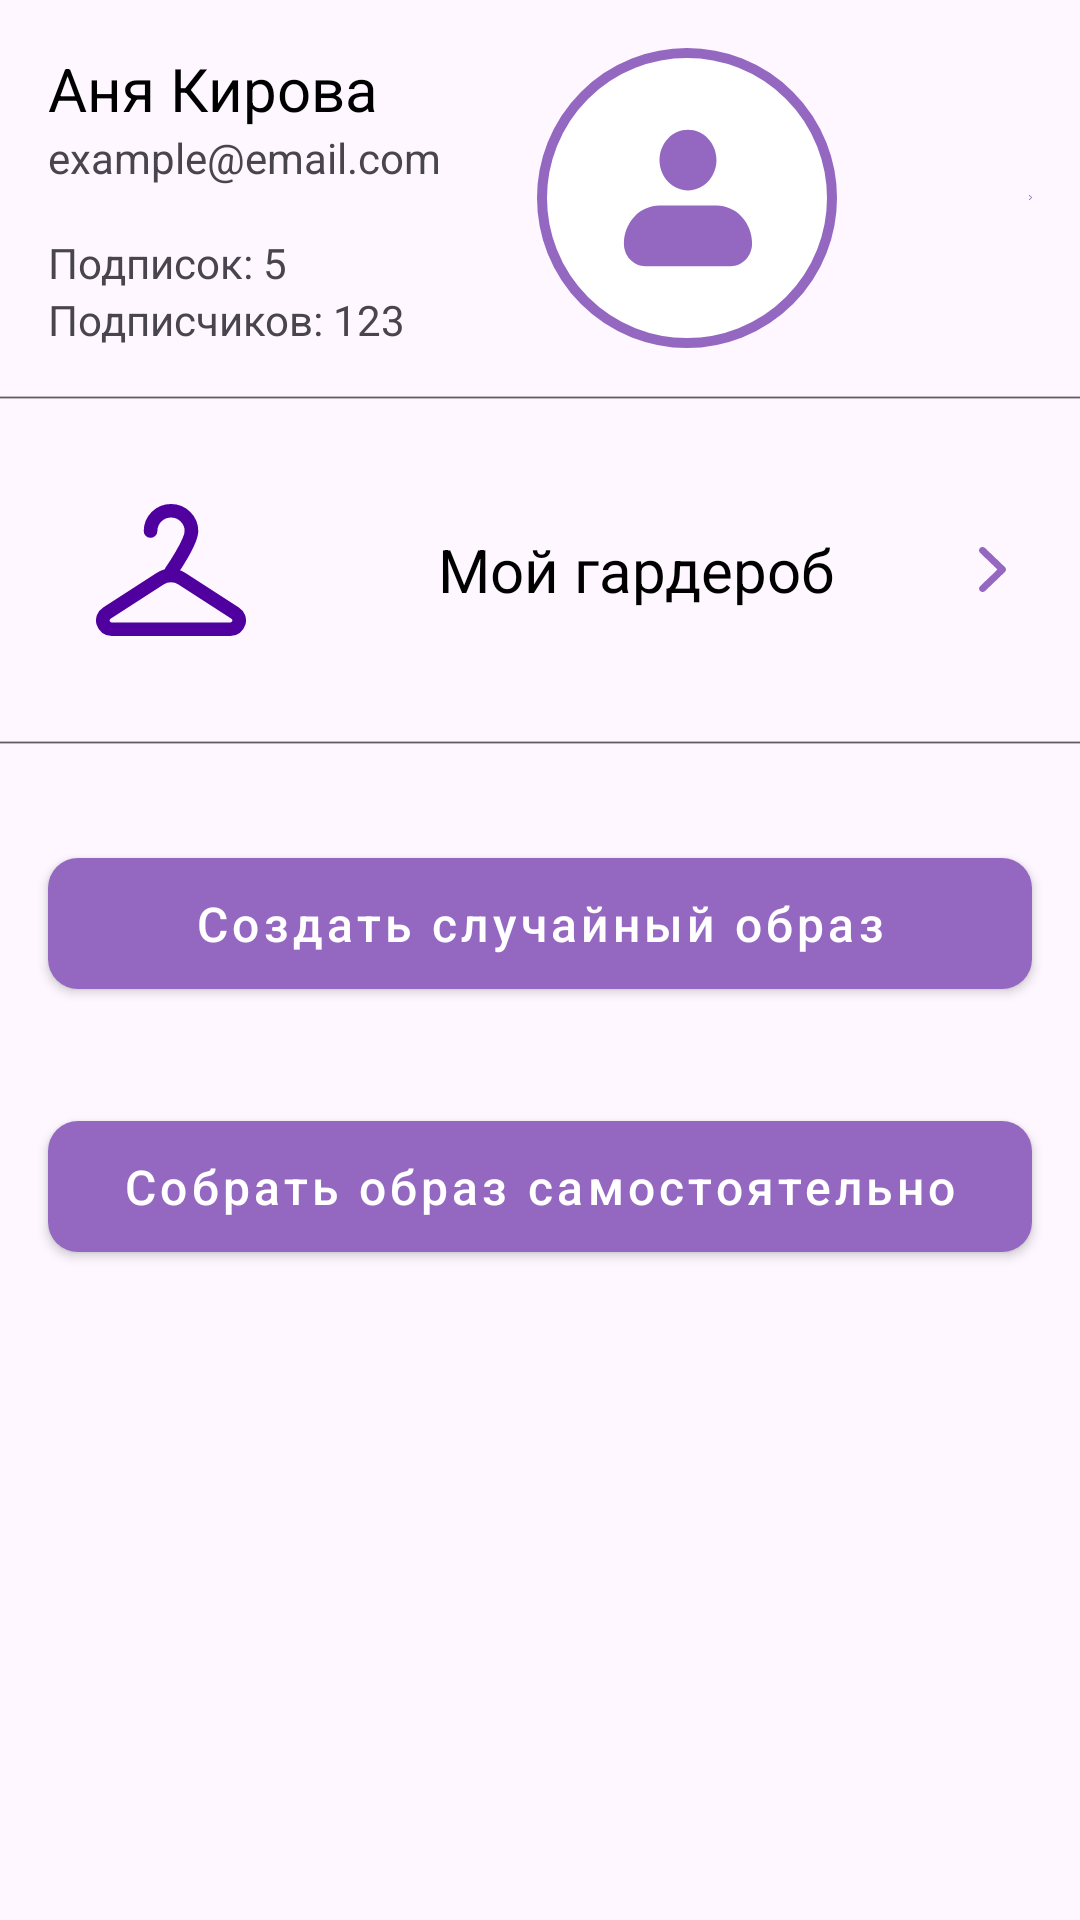

Named icons in this screenshot (1080 × 1920) and their bounding boxes, box(x1, y1, x2, y2):
hanger: box(96, 504, 246, 636)
profile plug: box(537, 48, 837, 348)
